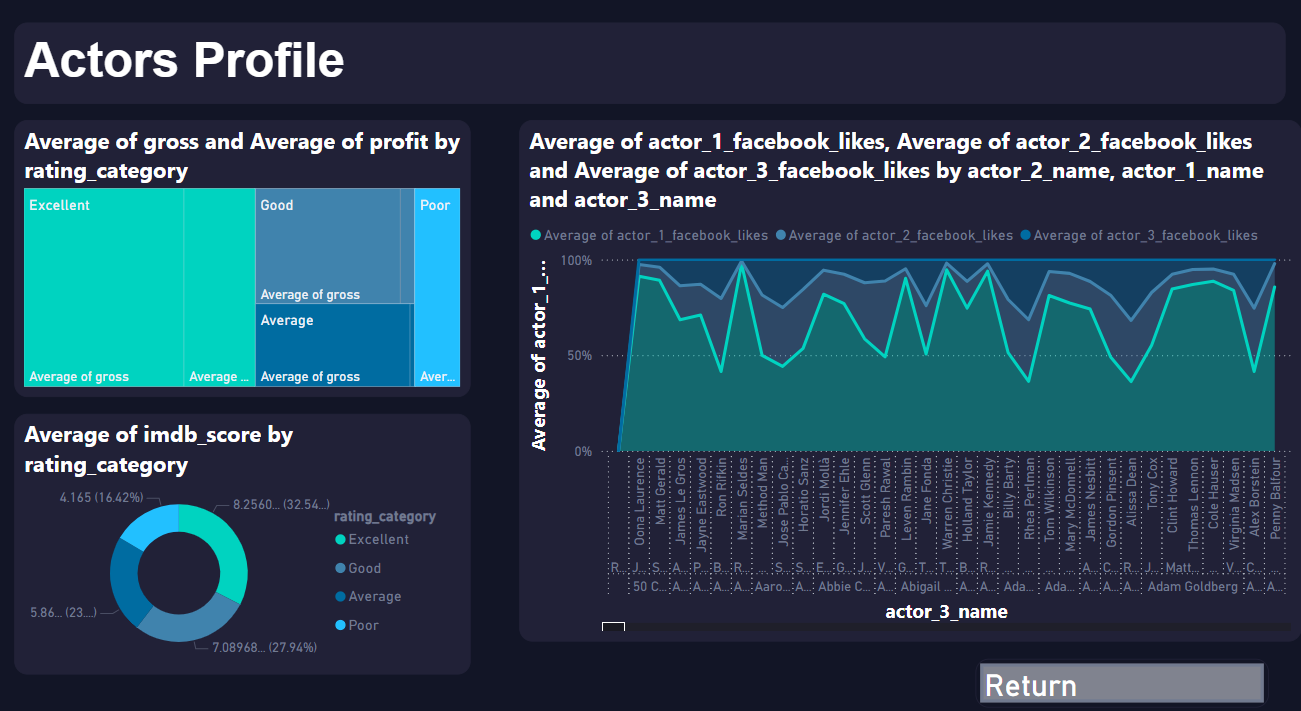

What the dashboard file says about the page in this screenshot:
{"tool":"powerbi","page":{"name":"Page 3","canvas":[1280,720],"ordinal":2},"visuals":[{"type":"treemap","fields":{"Values":["IMDB_Movies (1).gross","IMDB_Movies (1).profit"],"Group":["IMDB_Movies (1).rating_category"]},"box":[16,128,448,272],"z":0},{"type":"actionButton","box":[960,656,288,48],"z":1000},{"type":"hundredPercentStackedAreaChart","fields":{"Category":["IMDB_Movies (1).actor_2_name","IMDB_Movies (1).actor_1_name","IMDB_Movies (1).actor_3_name"],"Y":["IMDB_Movies (1).actor_1_facebook_likes","IMDB_Movies (1).actor_2_facebook_likes","IMDB_Movies (1).actor_3_facebook_likes"]},"box":[512,128,768,512],"z":2000},{"type":"textbox","box":[16,32,1248,80],"z":3000},{"type":"donutChart","fields":{"Y":["IMDB_Movies (1).imdb_score"],"Category":["IMDB_Movies (1).rating_category","IMDB_Movies (1).genres"]},"box":[16,416,448,256],"z":4000}]}

Visuals, with their boxes in screenshot pixels (x1, y1, x2, y2), scaled from the page's 1280x720 canvas onto the 1301x711 screenshot:
treemap - IMDB_Movies (1).gross x IMDB_Movies (1).profit: (left=16, top=126, right=472, bottom=395)
actionButton: (left=976, top=648, right=1268, bottom=695)
hundredPercentStackedAreaChart - IMDB_Movies (1).actor_2_name x IMDB_Movies (1).actor_1_name: (left=520, top=126, right=1300, bottom=632)
textbox: (left=16, top=32, right=1285, bottom=111)
donutChart - IMDB_Movies (1).imdb_score x IMDB_Movies (1).rating_category: (left=16, top=411, right=472, bottom=664)
